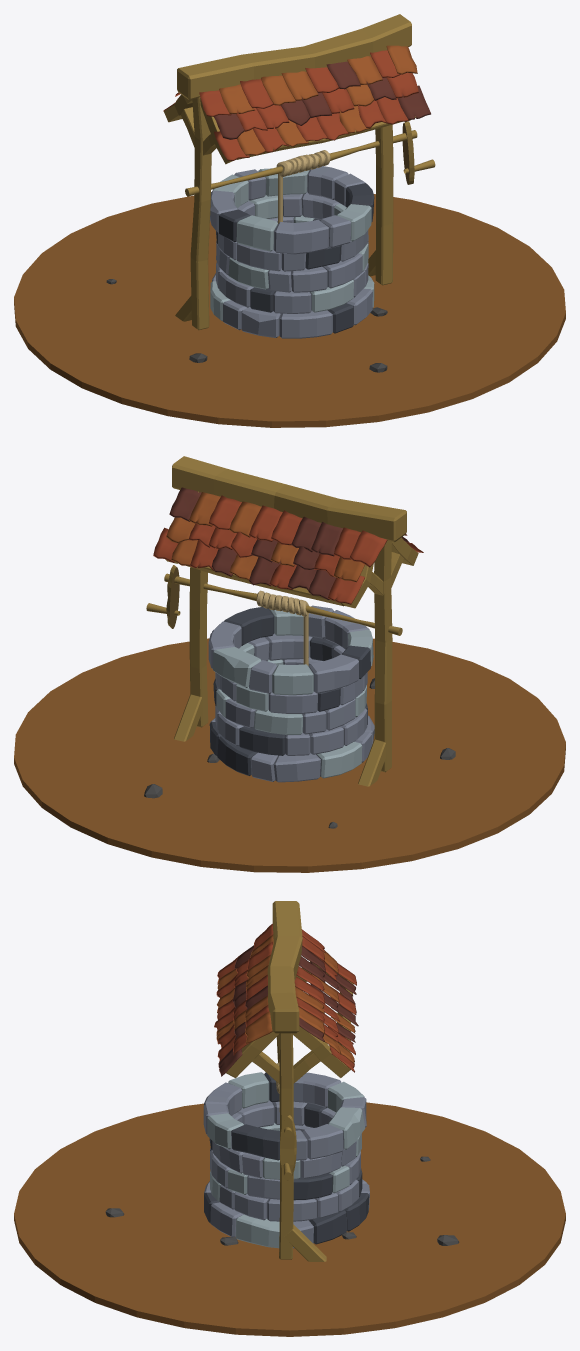
Rendered from low-poly-well.fbx.
The picture shows the model from 3 angles, top to bottom: view 1: azimuth 30°, elevation 25°; view 2: azimuth 150°, elevation 25°; view 3: azimuth 270°, elevation 25°; orthographic projection.
Parts seen in each view (by area): view 1: Plane.139, Plane.107, Plane.150, Plane.149, Plane.148, Plane.012, Plane.038, Plane.010, Plane.161, Plane.036, Plane.018, Plane.054 (+21 smaller); view 2: Plane.139, Plane.084, Plane.150, Plane.149, Plane.148, Plane.016, Plane.020, Plane.014, Plane.041, Plane.008, Plane.043, Plane.062 (+22 smaller); view 3: Plane.139, Plane.084, Plane.107, Plane.150, Plane.148, Plane.008, Plane.051, Plane.018, Plane.016, Plane.010, Plane.020, Plane.157 (+16 smaller).
Boxes of the visible parts, <box> form: Plane.139: <box>14,194,565,427</box>; Plane.107: <box>199,45,430,160</box>; Plane.150: <box>177,14,411,100</box>; Plane.149: <box>190,97,211,330</box>; Plane.148: <box>375,124,393,285</box>; Plane.012: <box>274,219,329,254</box>; Plane.038: <box>279,310,332,338</box>; Plane.010: <box>236,215,277,251</box>; Plane.161: <box>185,130,417,196</box>; Plane.036: <box>241,307,280,337</box>; Plane.018: <box>307,166,348,199</box>; Plane.054: <box>310,279,353,312</box>; Plane.139: <box>14,638,565,872</box>; Plane.084: <box>153,487,387,604</box>; Plane.150: <box>172,456,406,542</box>; Plane.149: <box>374,540,392,772</box>; Plane.148: <box>189,567,208,727</box>; Plane.016: <box>309,654,358,693</box>; Plane.020: <box>213,647,261,687</box>; Plane.014: <box>272,664,313,695</box>; Plane.041: <box>273,753,320,782</box>; Plane.008: <box>224,607,273,645</box>; Plane.043: <box>316,741,362,778</box>; Plane.062: <box>239,726,285,755</box>; Plane.139: <box>14,1102,565,1336</box>; Plane.084: <box>294,929,358,1072</box>; Plane.107: <box>214,923,273,1076</box>; Plane.150: <box>267,901,302,1033</box>; Plane.148: <box>279,1033,293,1259</box>; Plane.008: <box>231,1124,279,1160</box>; Plane.051: <box>235,1214,279,1248</box>; Plane.018: <box>302,1124,343,1159</box>; Plane.016: <box>293,1072,341,1107</box>; Plane.010: <box>228,1072,269,1108</box>; Plane.020: <box>328,1107,365,1149</box>; Plane.157: <box>292,1026,350,1077</box>.
Bounding box in the file's own units: 4646 × 2534 × 4646.
